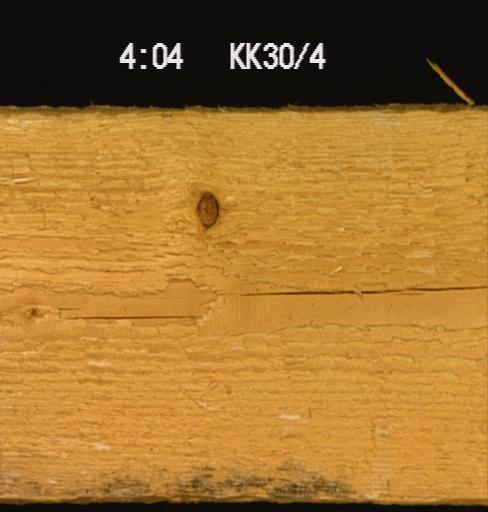dry_knot: (191, 189, 220, 229)
small_knot: (23, 300, 50, 324)
split: (230, 274, 486, 300), (60, 306, 208, 328)
